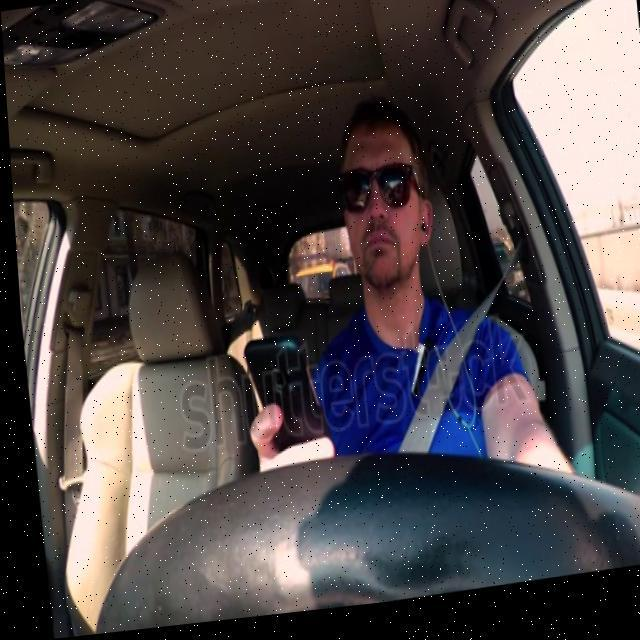PhoneCall: (236, 331, 329, 476)
